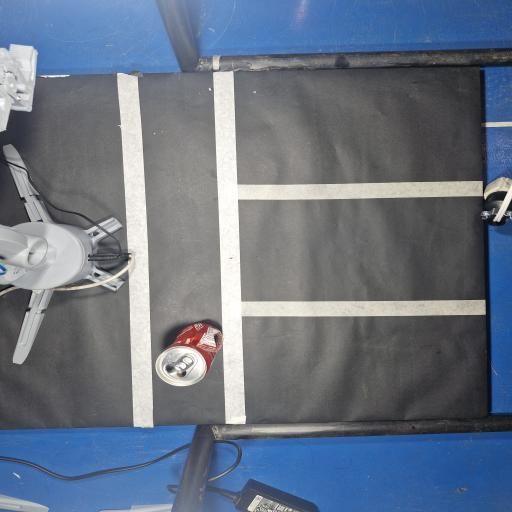lata_defectuoso: (155, 323, 223, 387)
